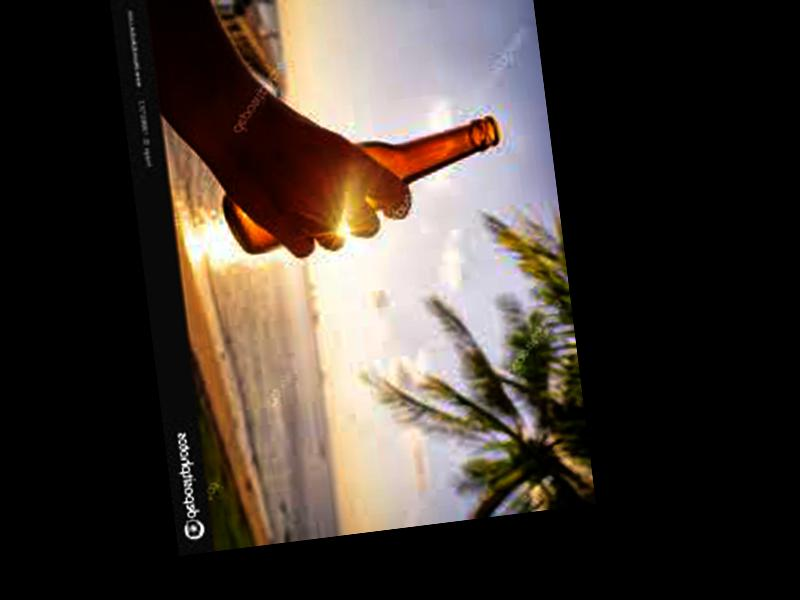Beer: (214, 112, 509, 255)
